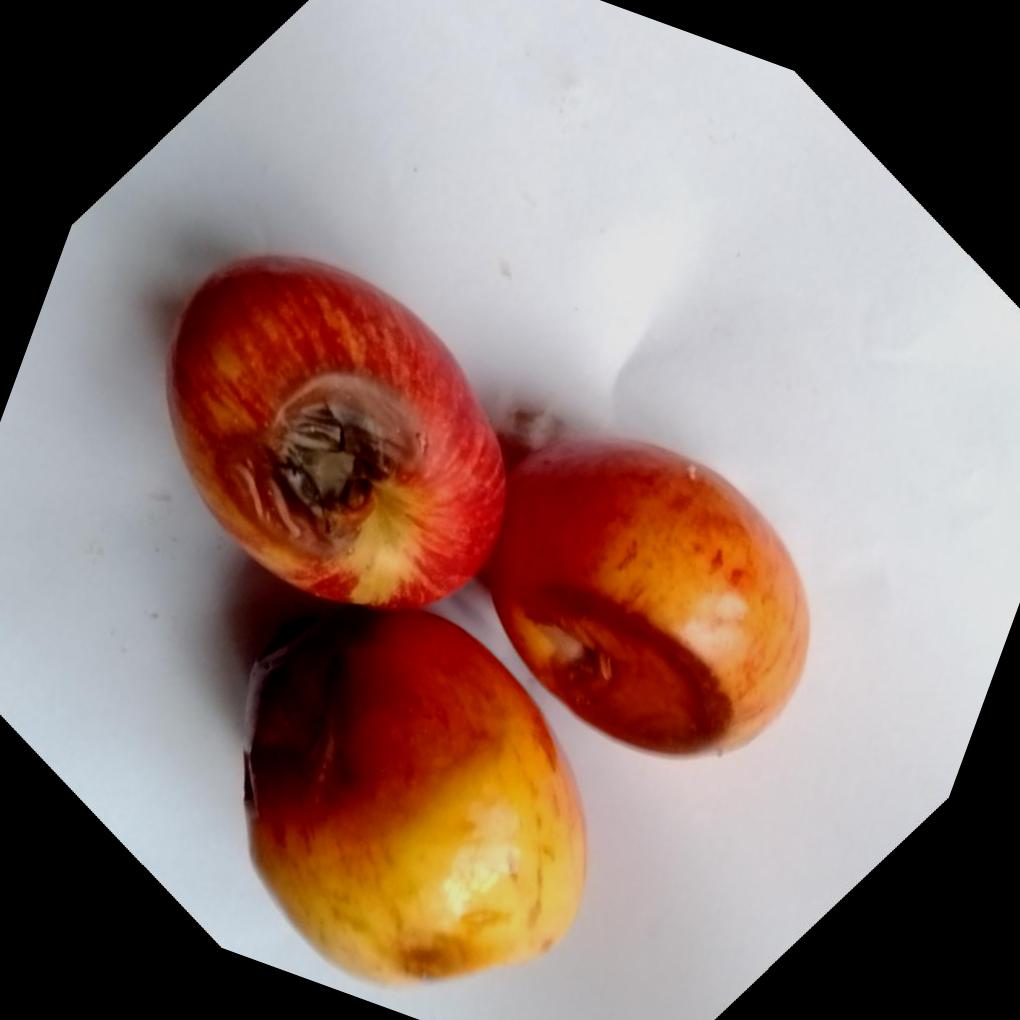FreshOrange: (166, 254, 810, 991)
